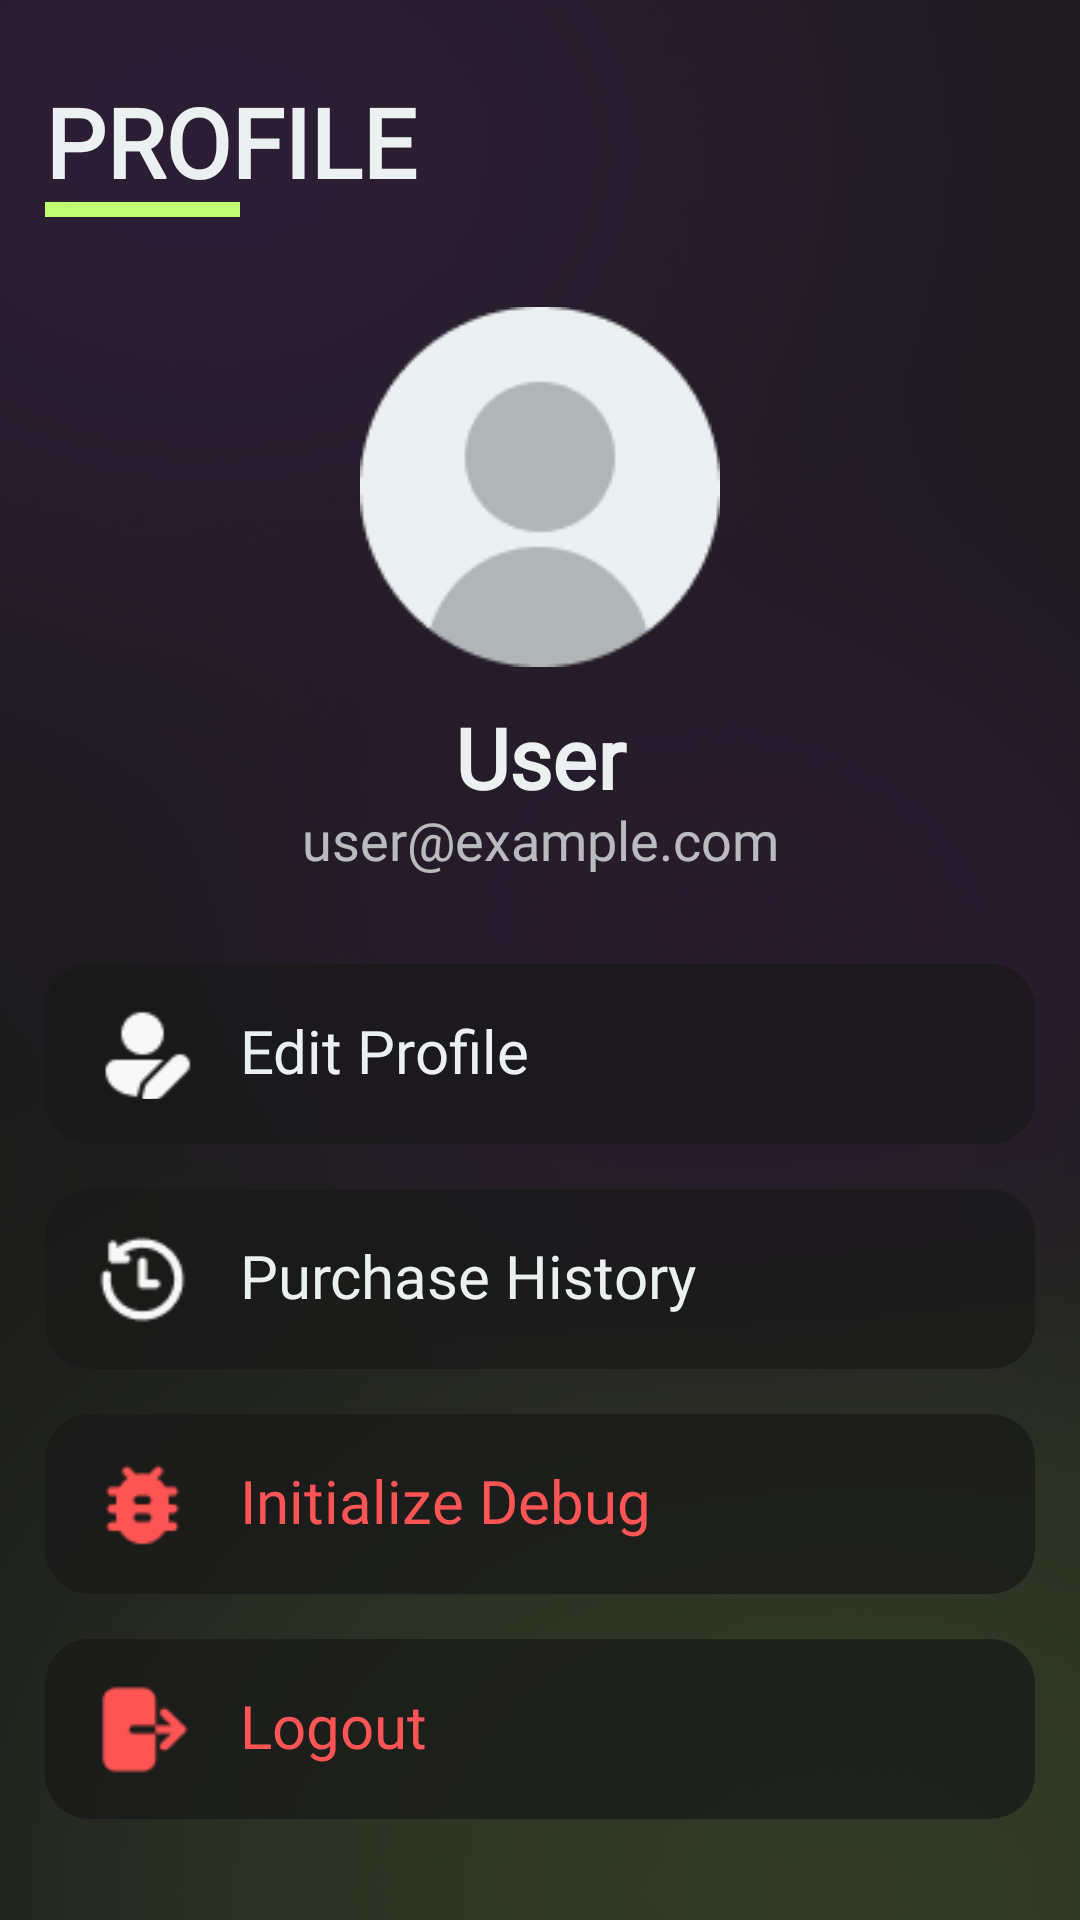

Named icons in this screenshot (1080px x 1920px) and their bounding boxes, (x1, y1, x2, y2):
display picture: (360, 307, 720, 667)
person: (105, 1011, 191, 1099)
